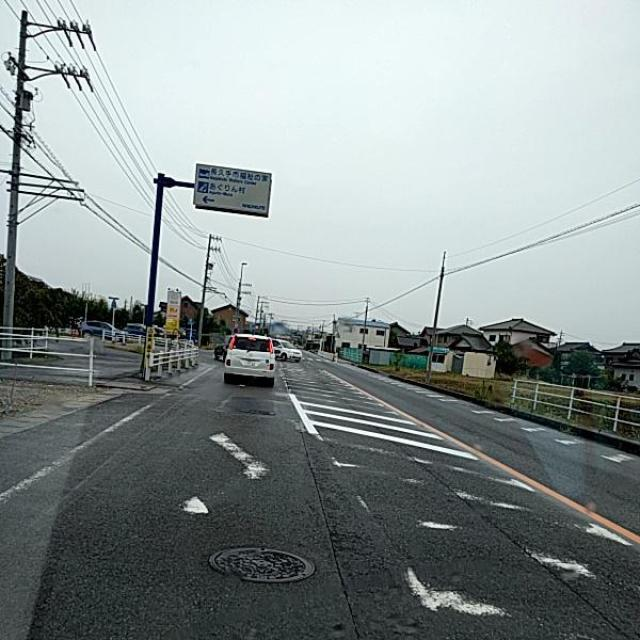Crack: (296, 383, 618, 640)
